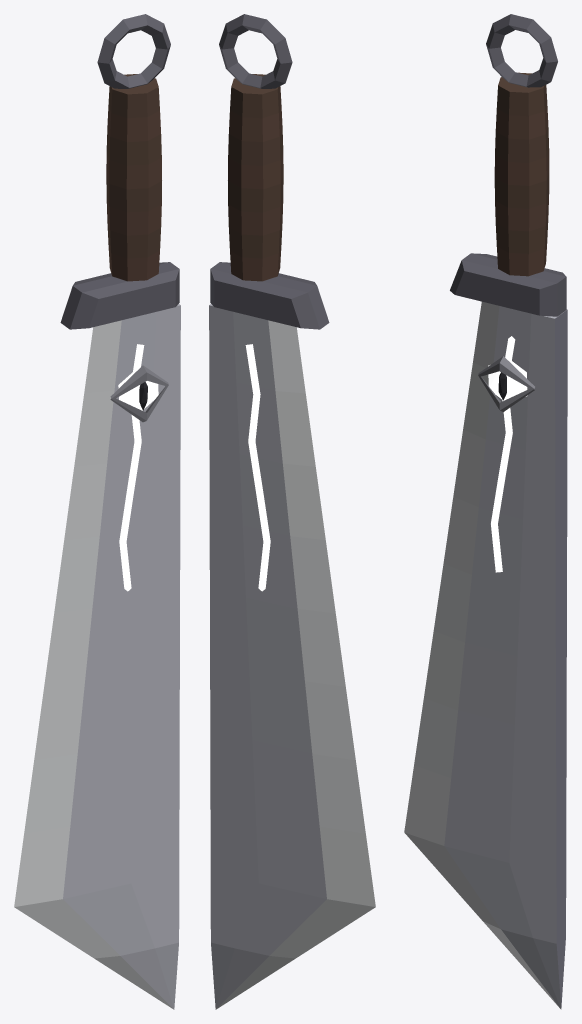
File: blade-cleaver.glb
3 views of the same model, side by side, from view 1: azimuth 30°, elevation 25°; view 2: azimuth 150°, elevation 25°; view 3: azimuth 330°, elevation 25° (orthographic).
Parts seen in each view (by area): view 1: blade-cleaver, blink_eye, pulse_vein; view 2: blade-cleaver, pulse_vein; view 3: blade-cleaver, blink_eye, pulse_vein.
Part boxes in pixels (box(x1,y1,x2,y2)): blade-cleaver: box(14, 14, 180, 1009); blink_eye: box(110, 365, 168, 422); pulse_vein: box(119, 344, 144, 591); blade-cleaver: box(209, 14, 375, 1009); pulse_vein: box(245, 344, 270, 591); blade-cleaver: box(404, 14, 567, 1009); blink_eye: box(478, 356, 535, 411); pulse_vein: box(491, 336, 515, 572).
Size of the model in its own units: 0.1979 by 1.18 by 0.0691.
